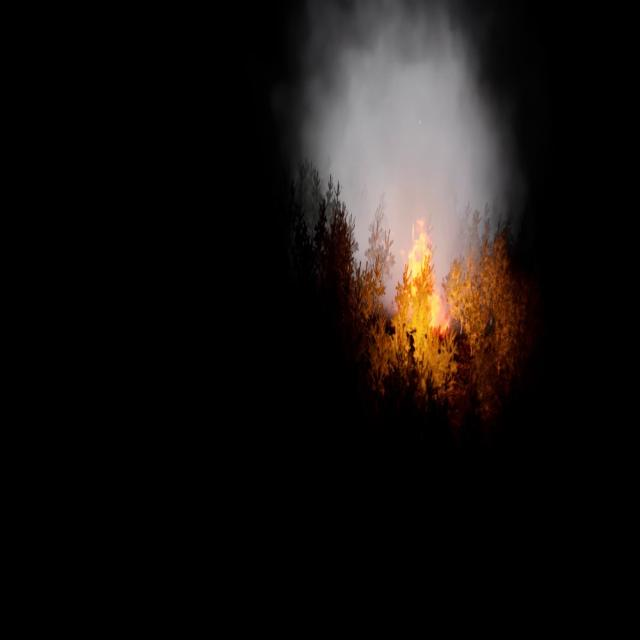fire: (396, 217, 453, 349)
smoke: (290, 0, 530, 317)
